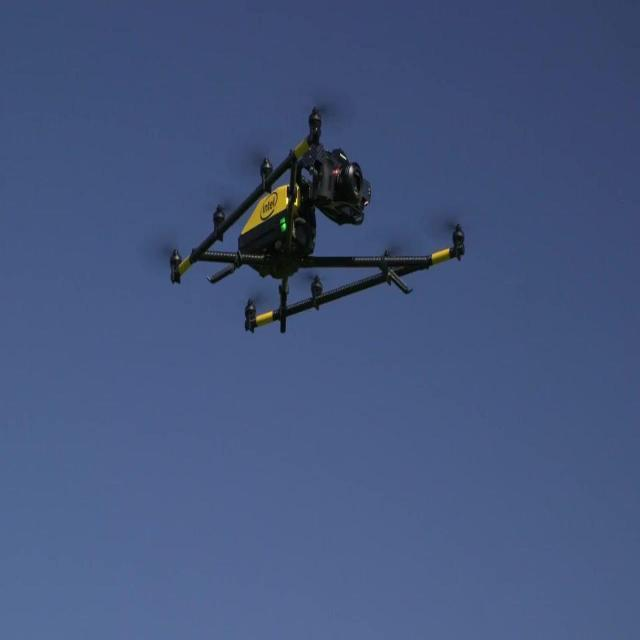UAV: (150, 99, 464, 332)
